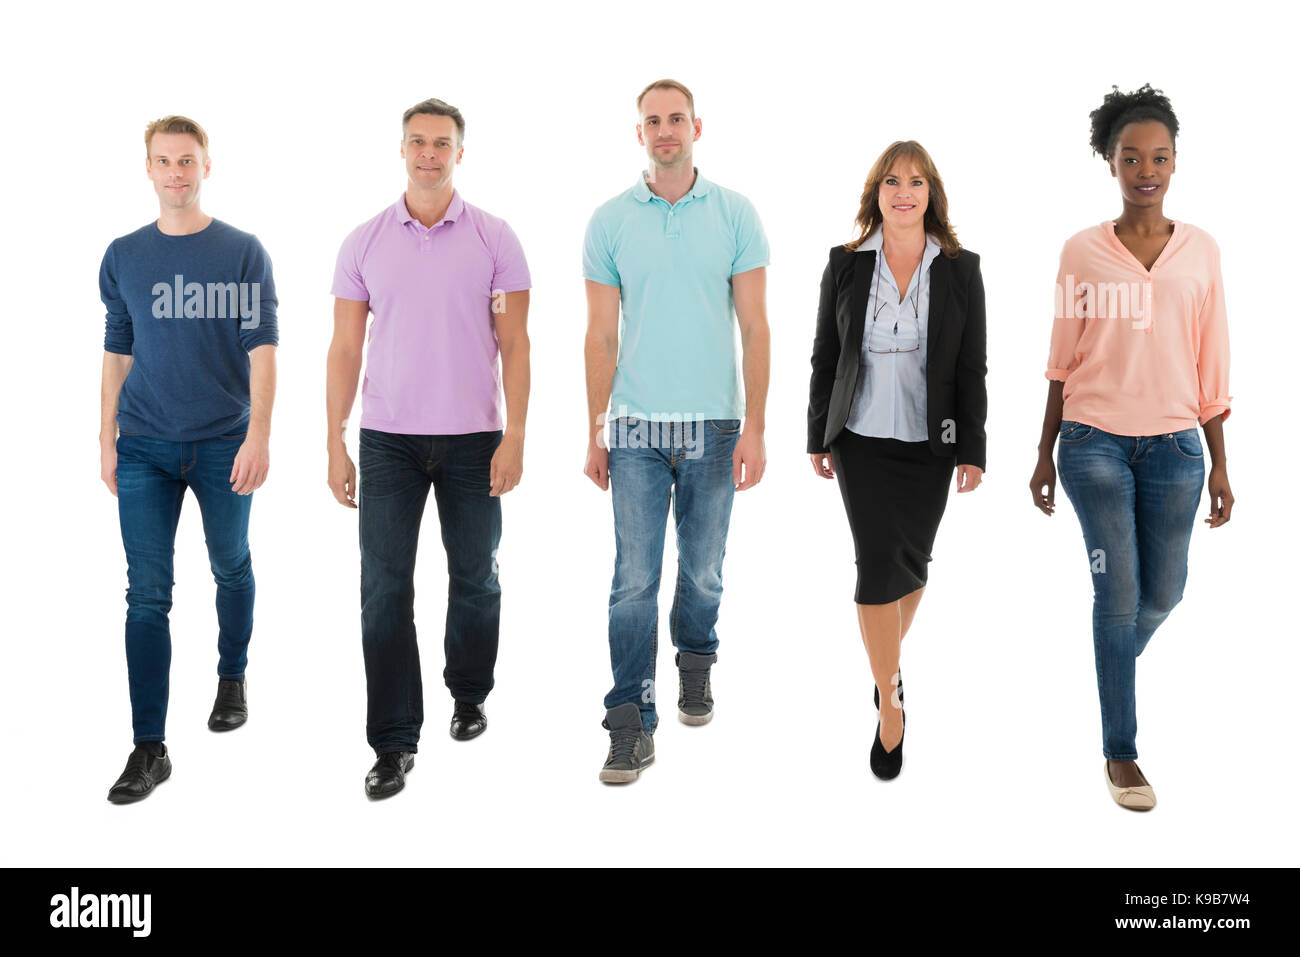face: (1084, 81, 1186, 215), (631, 74, 714, 174), (393, 94, 470, 200), (139, 112, 218, 215), (865, 135, 939, 239)
